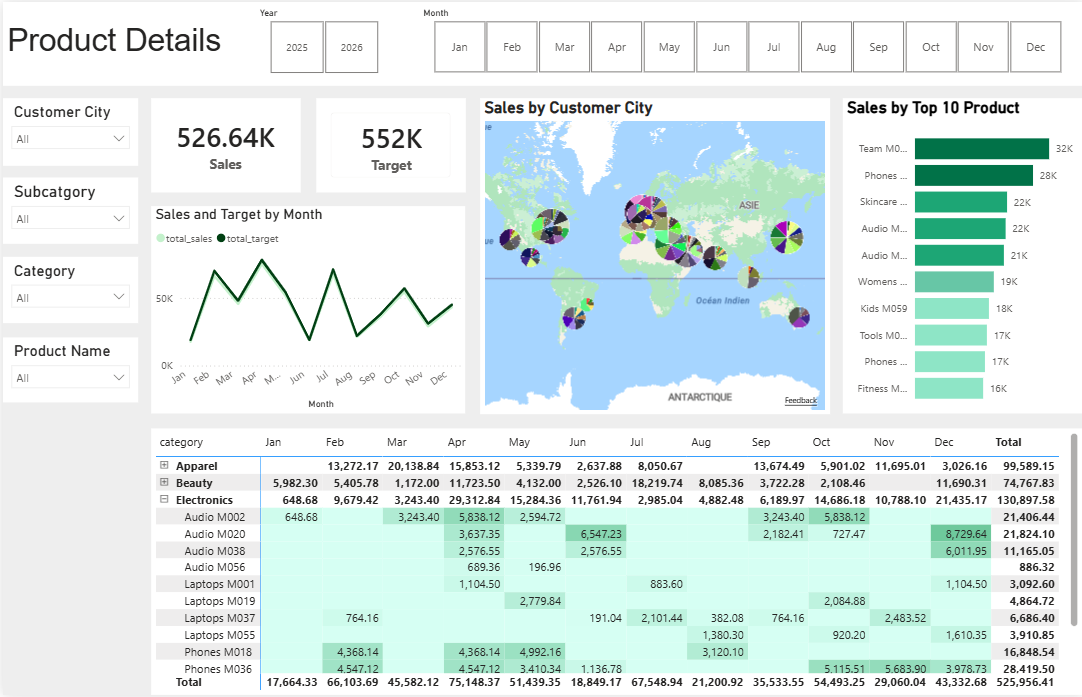

What the dashboard file says about the page in this screenshot:
{"tool":"powerbi","page":{"name":"Product Details","canvas":[1280,820],"ordinal":2},"visuals":[{"type":"textbox","box":[0,0,1280.5,99.5],"z":0},{"type":"slicer","title":"Month","fields":{"Values":["dim_date.Month Name"]},"box":[485,1.7,791.7,88.3],"z":1000},{"type":"slicer","fields":{"Values":["dim_product.subcatgory"]},"box":[0,208.3,160,78.3],"z":2000},{"type":"slicer","fields":{"Values":["dim_customer.city_name"]},"box":[0,113.3,160,80],"z":3000},{"type":"slicer","fields":{"Values":["dim_product.category"]},"box":[0,301.7,160,78.3],"z":4000},{"type":"slicer","fields":{"Values":["dim_product.product_name"]},"box":[0,396.7,160,76.7],"z":5000},{"type":"slicer","title":"Month","fields":{"Values":["dim_date.year"]},"box":[290.3,1.4,177.2,89.3],"z":6000},{"type":"lineChart","title":"Sales and Target by Month","fields":{"Y":["_mesure.total_sales","_mesure.total_target"],"Category":["dim_date.Month Name"]},"box":[175,241.7,371.7,245],"z":7000},{"type":"azureMap","title":"Sales by Customer City","fields":{"Category":["dim_customer.city_name"],"Series":["fact_sale.line_total"],"Size":["Sum(fact_sale.line_total)"]},"box":[565,113.3,413.3,373.3],"z":9000},{"type":"cardVisual","title":"Sales","fields":{"Data":["_mesure.total_sales"]},"box":[175,113.3,176.7,111.7],"z":10000},{"type":"cardVisual","title":"Sales","fields":{"Data":["_mesure.total_target"]},"box":[370,113.3,176.7,111.7],"z":11000},{"type":"pivotTable","fields":{"Columns":["dim_date.Month Name"],"Values":["Sum(fact_sale.line_total)"],"Rows":["dim_product.category","dim_product.product_name"]},"box":[175,505,1101.7,315],"z":12000},{"type":"barChart","title":"Sales by Top 10 Product","fields":{"Y":["_mesure.total_sales"],"Category":["dim_product.product_name"]},"box":[993.3,113.3,286.7,373.3],"z":12001}]}

Visuals, with their boxes in screenshot pixels (x1, y1, x2, y2), scaled from the page's 1280x820 canvas onto the 1082x697 screenshot:
textbox: crop(0, 0, 1081, 85)
"Month" slicer: crop(410, 1, 1079, 76)
slicer - dim_product.subcatgory: crop(0, 177, 135, 244)
slicer - dim_customer.city_name: crop(0, 96, 135, 164)
slicer - dim_product.category: crop(0, 256, 135, 323)
slicer - dim_product.product_name: crop(0, 337, 135, 402)
"Month" slicer: crop(245, 1, 395, 77)
"Sales and Target by Month" lineChart: crop(148, 205, 462, 414)
"Sales by Customer City" azureMap: crop(478, 96, 827, 414)
"Sales" cardVisual: crop(148, 96, 297, 191)
"Sales" cardVisual: crop(313, 96, 462, 191)
pivotTable - dim_date.Month Name x Sum(fact_sale.line_total): crop(148, 429, 1079, 696)
"Sales by Top 10 Product" barChart: crop(840, 96, 1081, 414)
